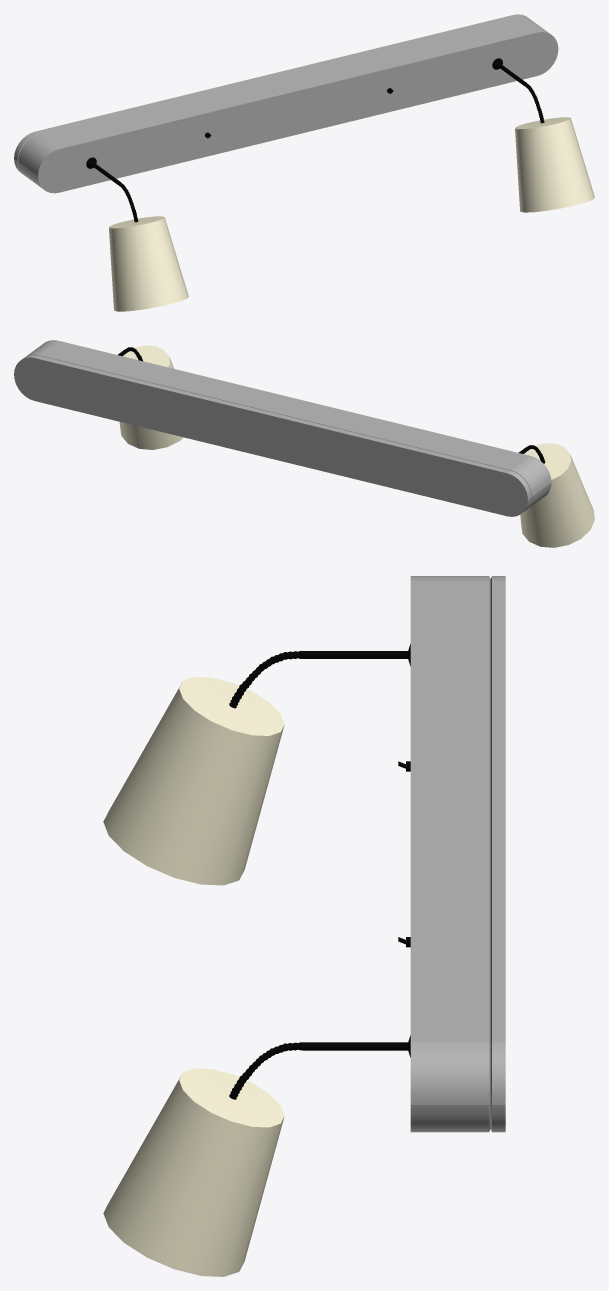
File: IKEA-Basisk_Lighting_Track-3d.FBX
3 views of the same model, one above another, from view 1: azimuth 30°, elevation 25°; view 2: azimuth 150°, elevation 25°; view 3: azimuth 270°, elevation 25° (orthographic). The views are drawn at different scales.
Visible parts, largest first — view 1: Rectangle03; view 2: Rectangle03; view 3: Rectangle03.
Boxes of the visible parts, left/top/right/bottom form: Rectangle03: left=14, top=14, right=594, bottom=311; Rectangle03: left=14, top=340, right=594, bottom=547; Rectangle03: left=103, top=576, right=505, bottom=1276.
Size of the model in its own units: 0.25 by 0.0848 by 0.06.
